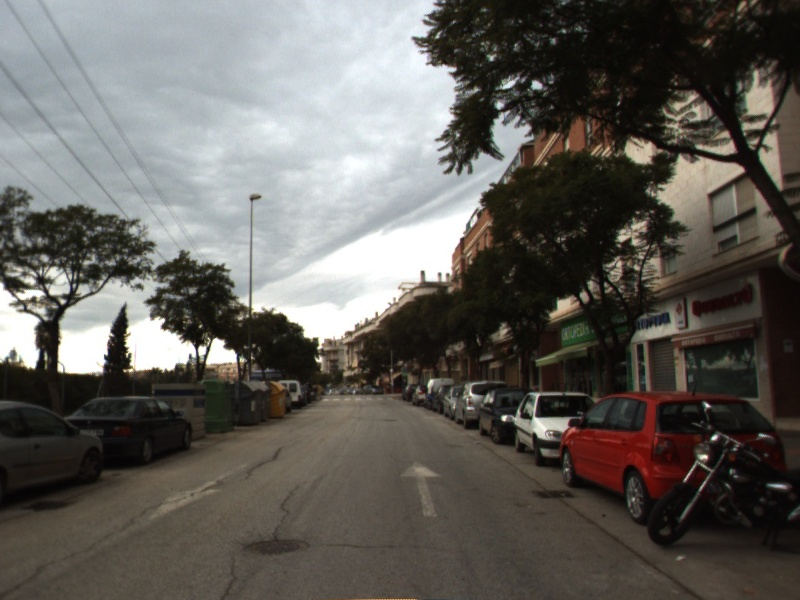STRAIGHT: (397, 457, 446, 520)
